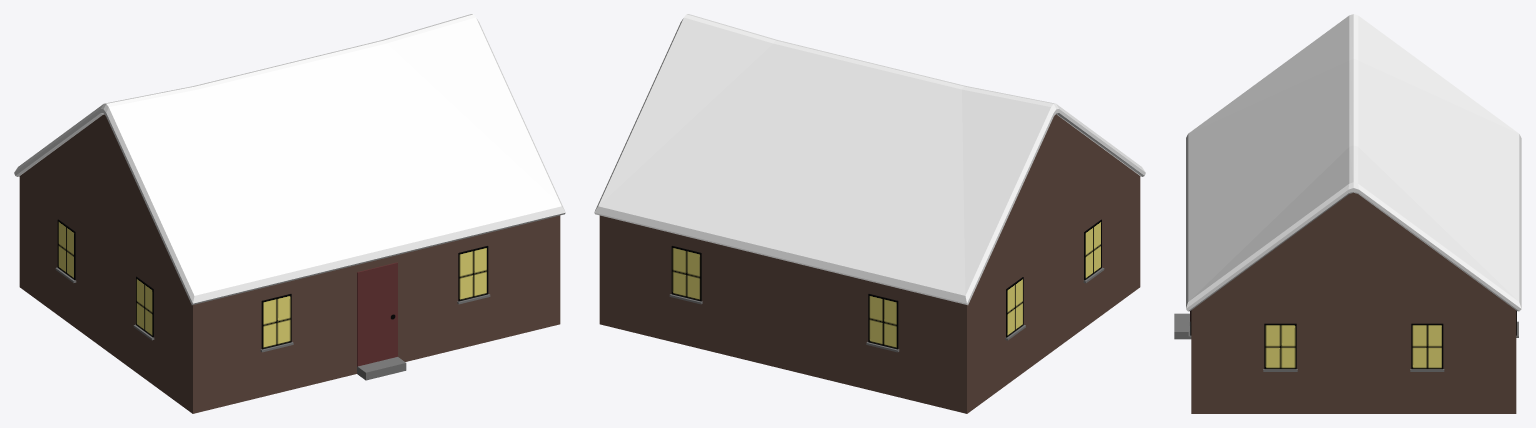
File: house_1F_01.obj
3 views of the same model, side by side, from view 1: azimuth 30°, elevation 25°; view 2: azimuth 150°, elevation 25°; view 3: azimuth 270°, elevation 25° (orthographic). The views are drawn at different scales.
Bounding box in the file's own units: 844 × 534 × 726.
